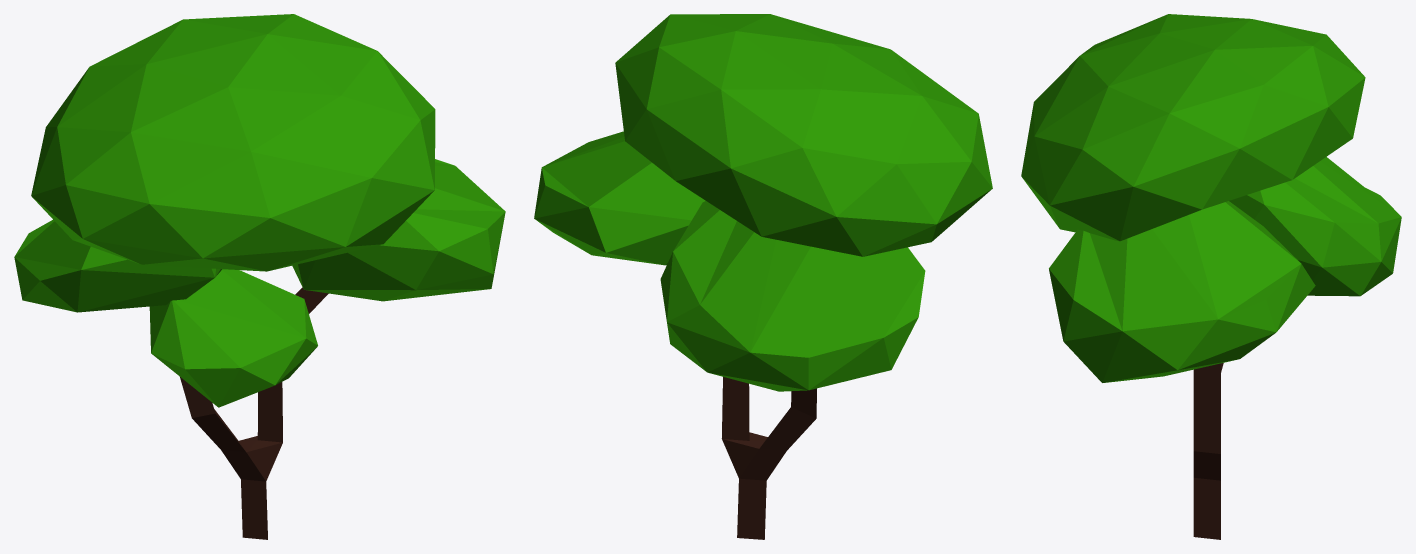
File: tree1.fbx
The picture shows the model from 3 angles, left to right: view 1: azimuth 30°, elevation 25°; view 2: azimuth 150°, elevation 25°; view 3: azimuth 270°, elevation 25°; orthographic projection. The views are drawn at different scales.
Parts seen in each view (by area): view 1: Tree_Type3_02_mesh; view 2: Tree_Type3_02_mesh; view 3: Tree_Type3_02_mesh.
Boxes of the visible parts, x1,y1,x2,y2 form: Tree_Type3_02_mesh: [14, 14, 505, 539]; Tree_Type3_02_mesh: [534, 14, 992, 539]; Tree_Type3_02_mesh: [1021, 14, 1401, 539].
Size of the model in its own units: 235 by 267 by 187.
